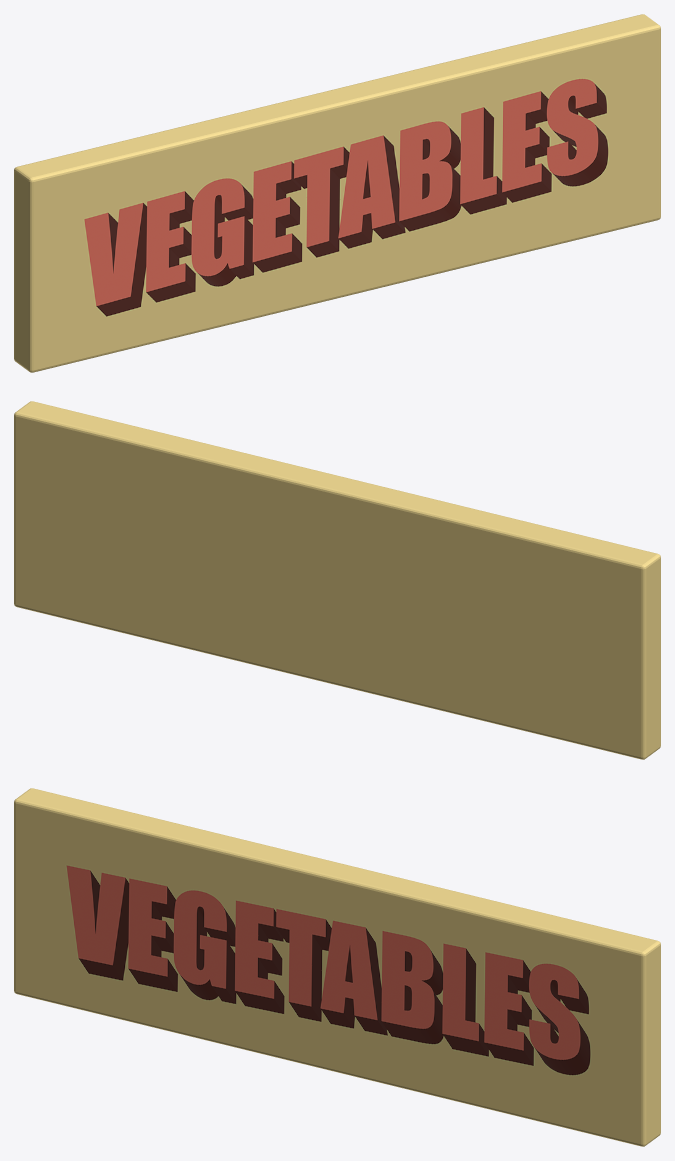
Rendered from vegetables.fbx.
3 views of the same model, one above another, from view 1: azimuth 30°, elevation 25°; view 2: azimuth 150°, elevation 25°; view 3: azimuth 330°, elevation 25° (orthographic).
Visible parts, largest first — view 1: vegetables; view 2: vegetables; view 3: vegetables.
Boxes of the visible parts, left/top/right/bottom form: vegetables: left=14, top=14, right=660, bottom=372; vegetables: left=14, top=401, right=660, bottom=759; vegetables: left=14, top=788, right=660, bottom=1146.
Bounding box in the file's own units: 102 × 30.2 × 5.
Materials: 1 (1 with a texture image).
